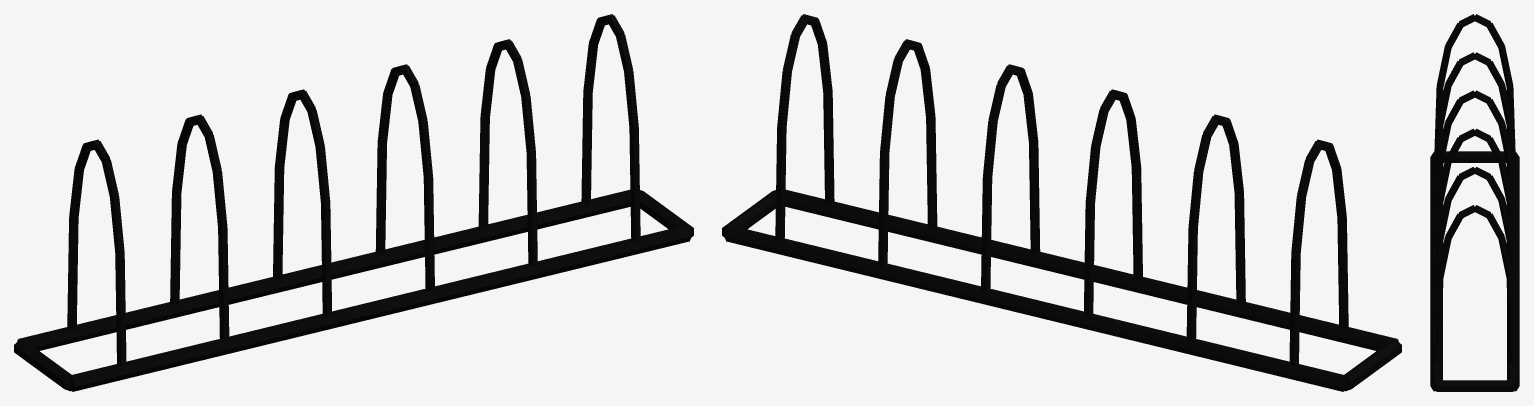
File: stalak-bicikli.glb
The picture shows the model from 3 angles, left to right: view 1: azimuth 30°, elevation 25°; view 2: azimuth 150°, elevation 25°; view 3: azimuth 270°, elevation 25°; orthographic projection. The views are drawn at different scales.
Parts seen in each view (by area): view 1: stalak-bicikli; view 2: stalak-bicikli; view 3: stalak-bicikli.
Boxes of the visible parts, x1,y1,x2,y2 form: stalak-bicikli: (14, 14, 693, 391); stalak-bicikli: (722, 14, 1401, 391); stalak-bicikli: (1430, 14, 1519, 391).
Bounding box in the file's own units: 1.73 × 0.5785 × 0.28.
Materials: 1 (1 with a texture image).
